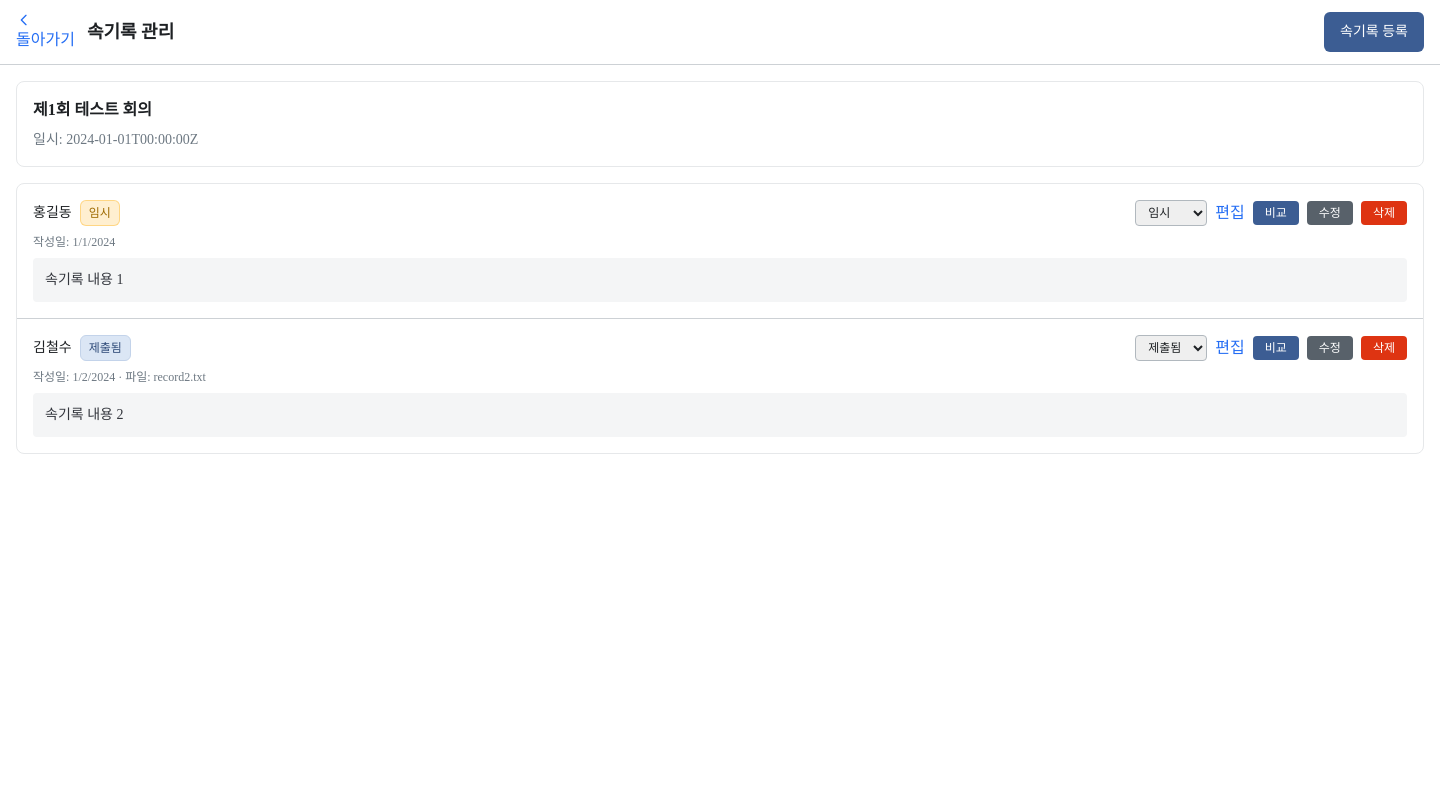
Test: StenographyPage › shows comparison modal when compare button is clicked
expect the element with test id "stenography-page" is shown: met, box [0,0,1439,470]
Step 1. Click the button with test id "compare-button-record-1" → (1276,213), box [1253,201,1299,225]
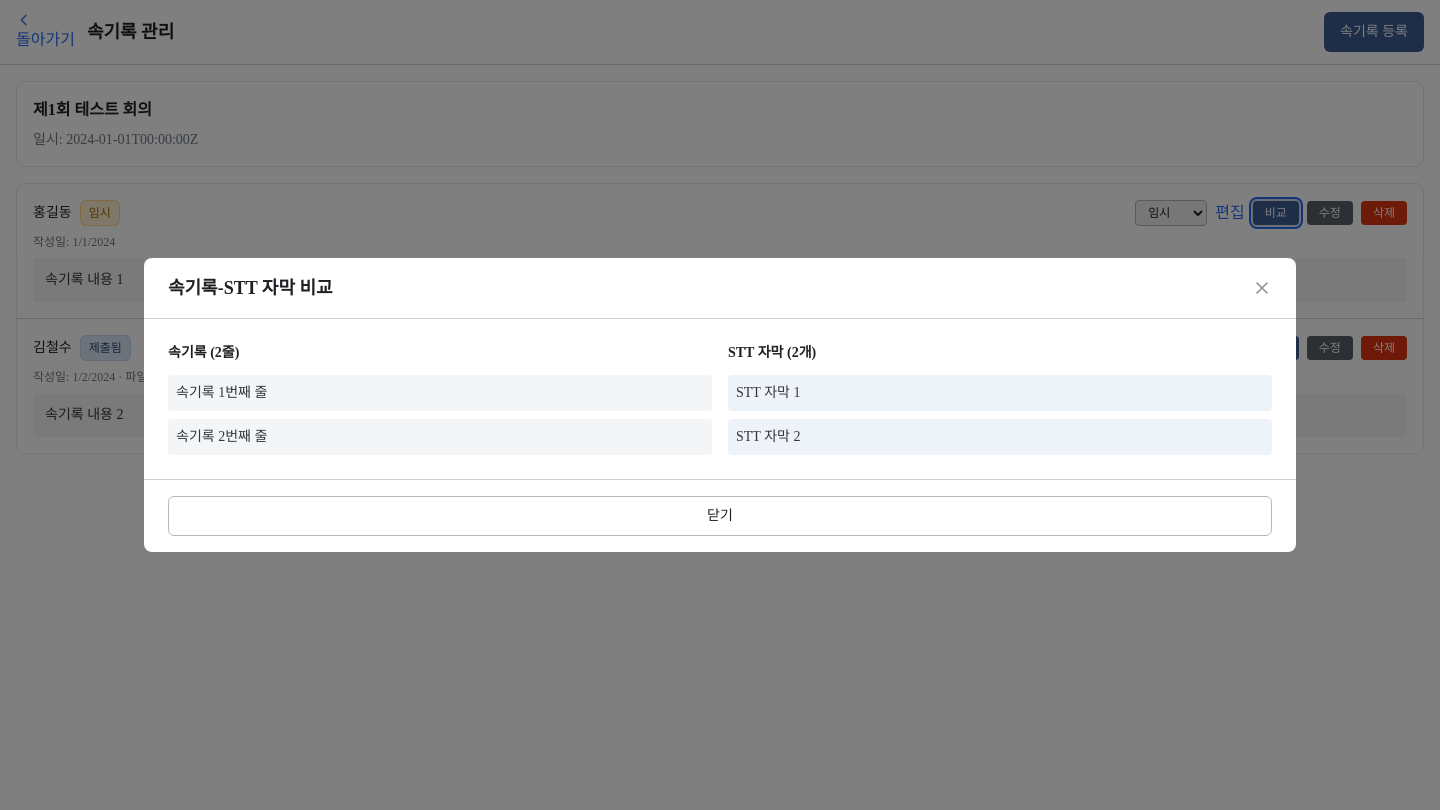
expect the heading "속기록-STT 자막 비교" is shown: met, box [168,274,333,302]
expect the text "속기록 1번째 줄" is shown: met, box [168,375,712,411]
expect the text "STT 자막 1" is shown: met, box [728,375,1272,411]
